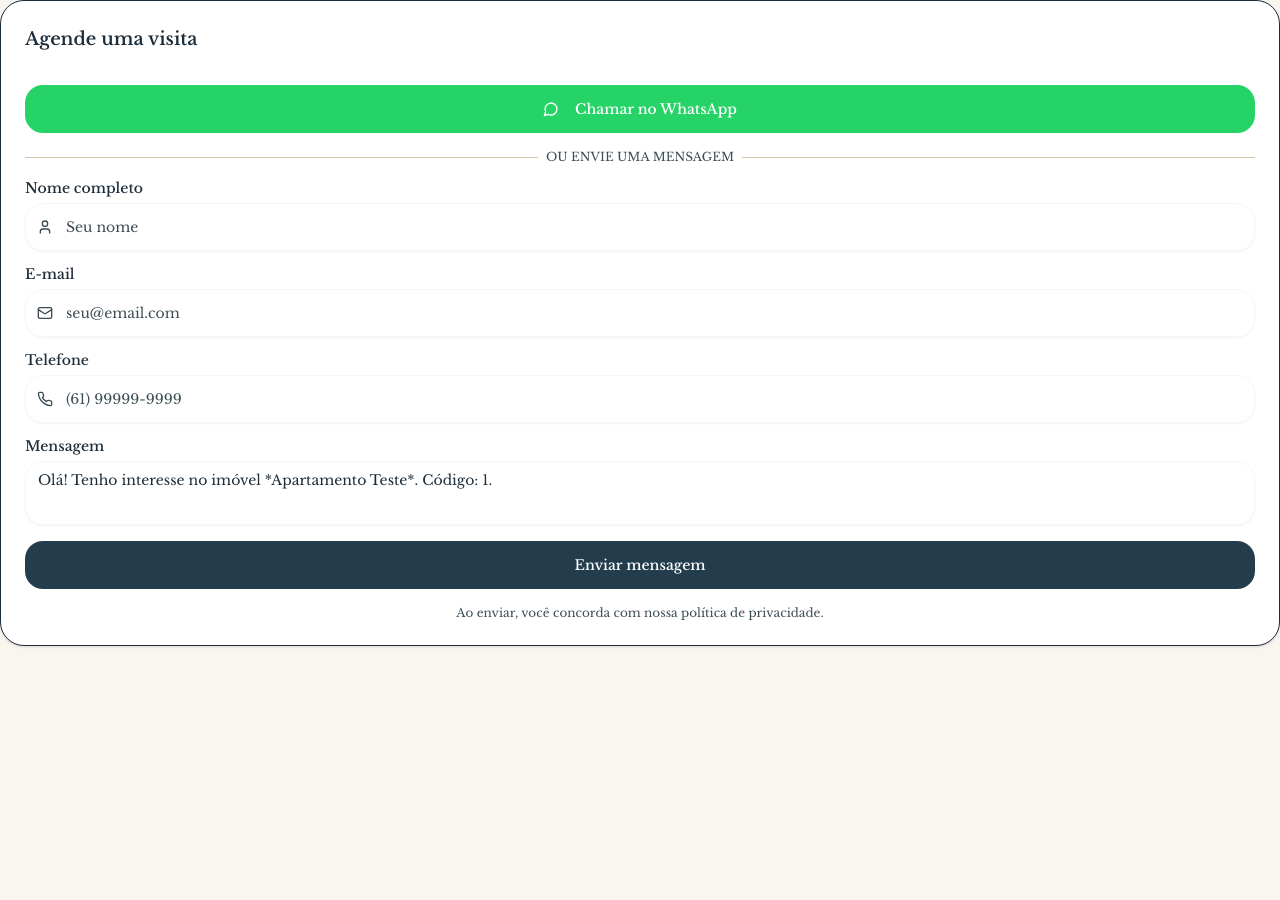
Test: ContactForm › submete formulário e exibe estado de sucesso
The width and height of the screenshot is (1280, 900).
Step 1. Type "João Silva" into the field labelled "Nome completo" → (640, 227), box [25,203,1255,251]
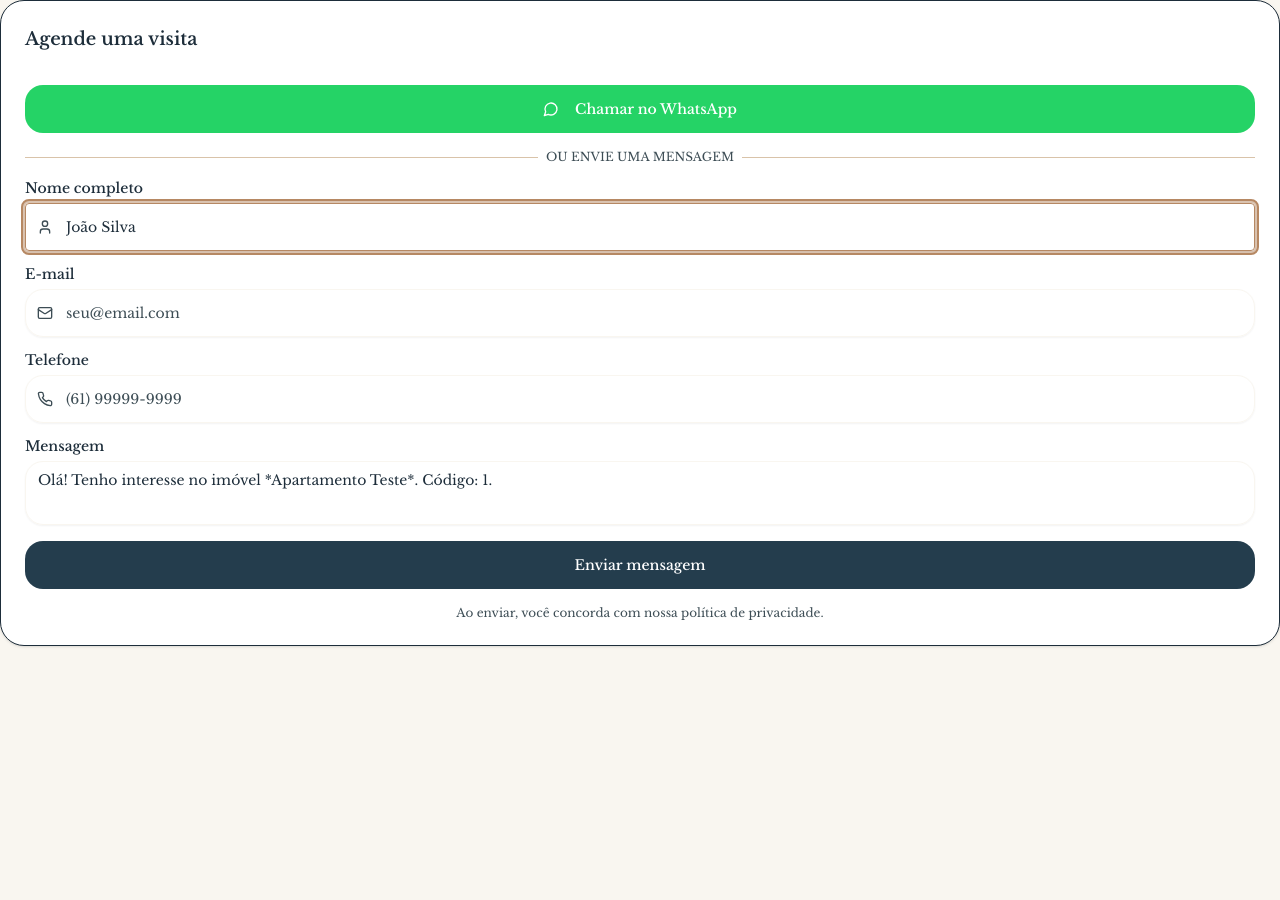
Step 2. Type "joao@teste.com" into the field labelled "E-mail" → (640, 313), box [25,289,1255,337]
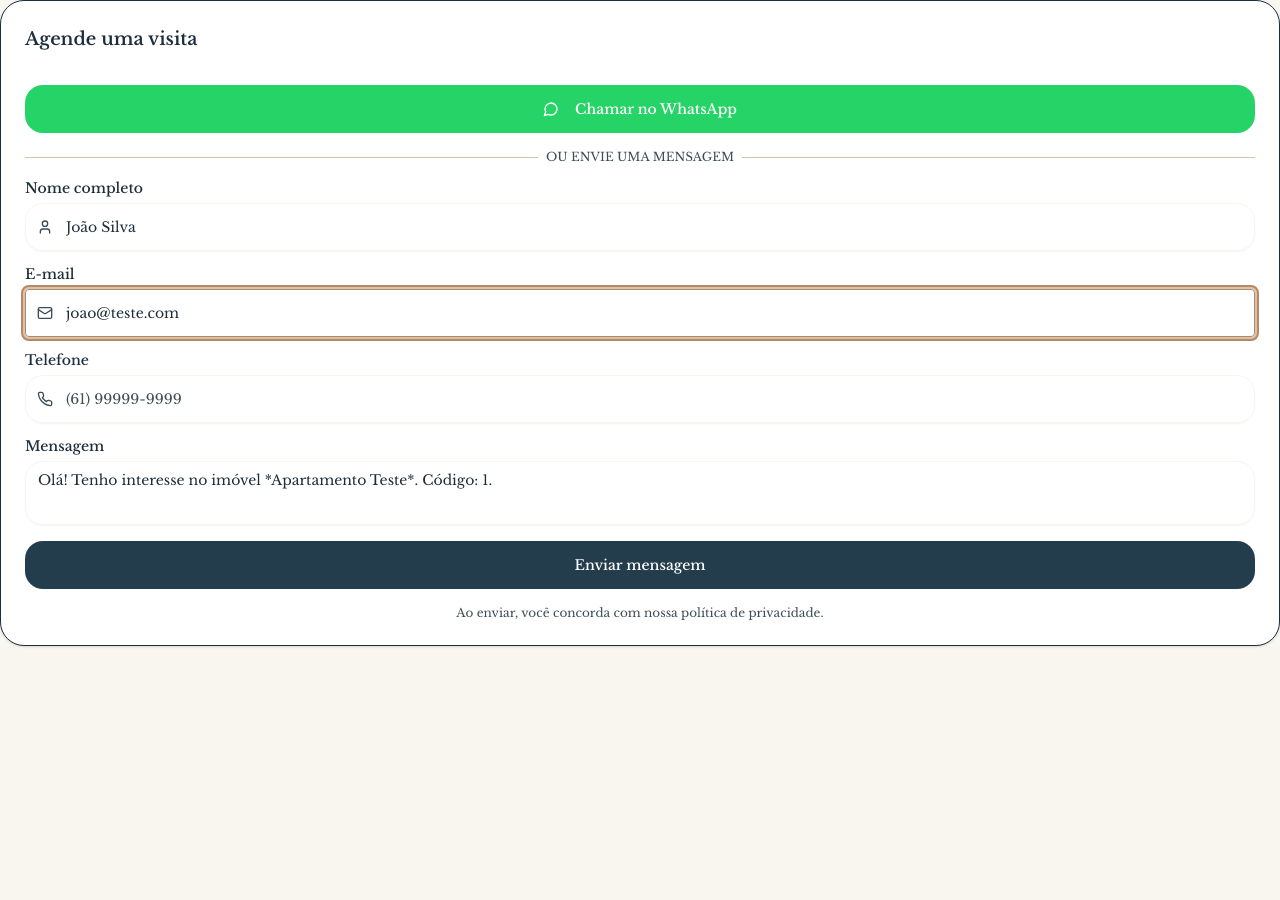
Step 3. Type "61988888888" into the field labelled "Telefone" → (640, 399), box [25,375,1255,423]
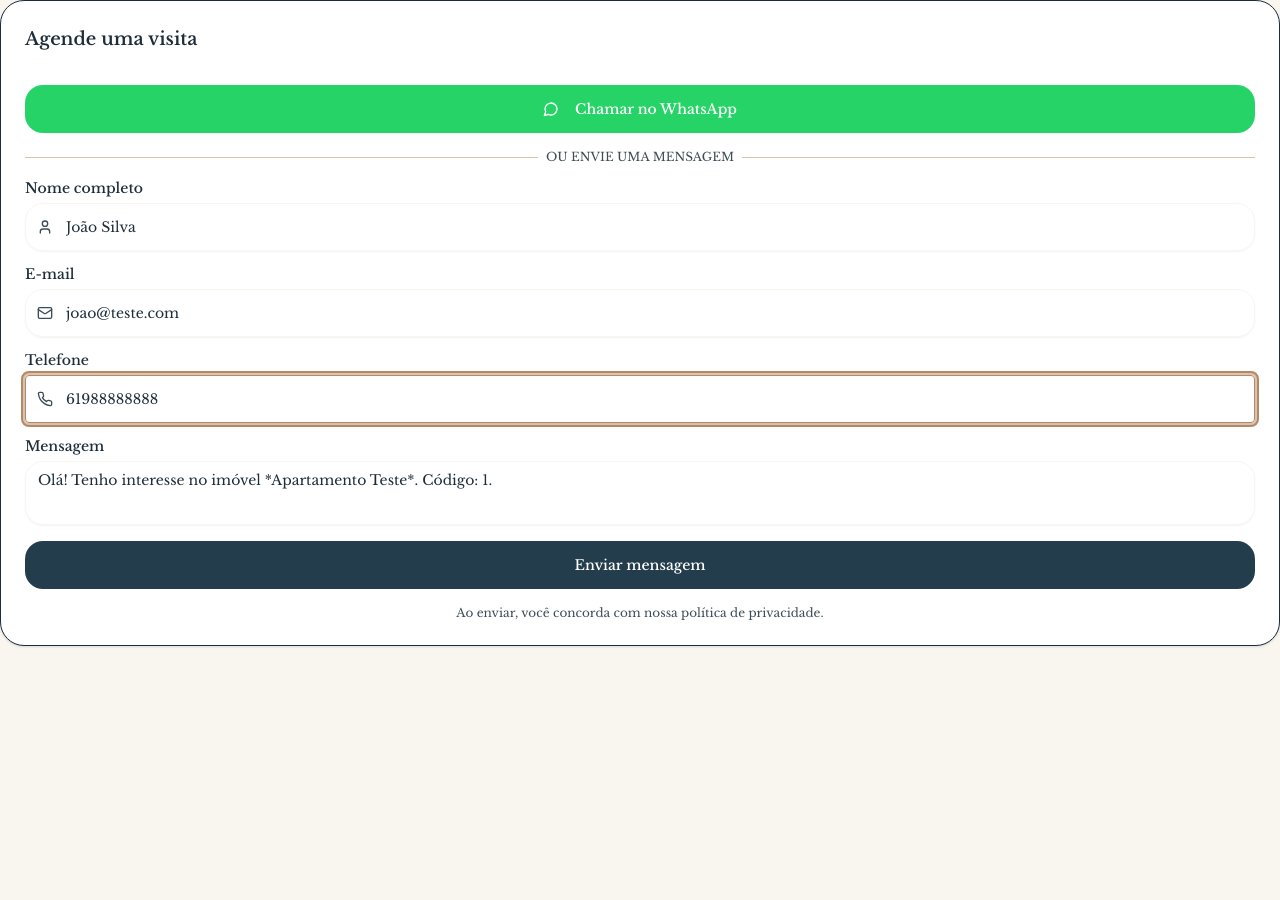
Step 4. Click the button "Enviar mensagem" → click(640, 565), box [25,541,1255,589]
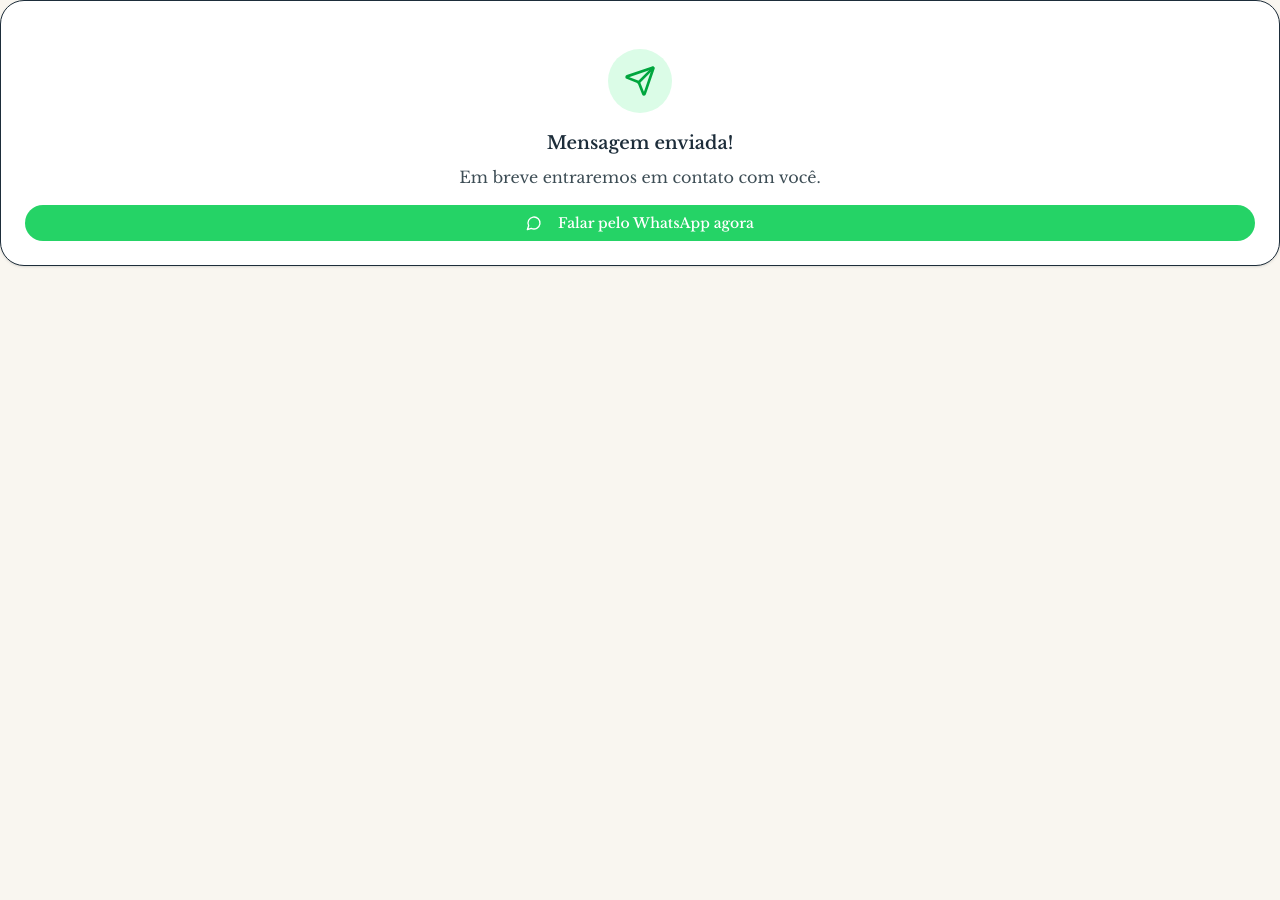
Now the heading "Mensagem enviada!" is shown, box [547,132,733,154]
Now the button "Falar pelo WhatsApp agora" is shown, box [25,205,1255,241]
